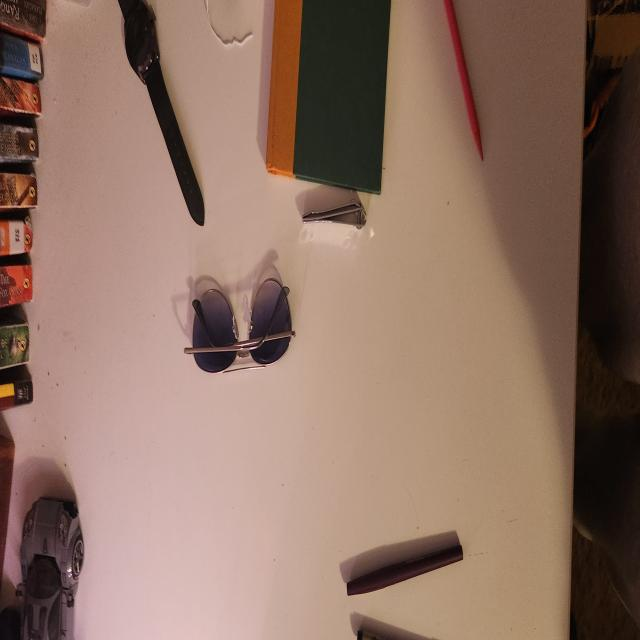Glasses: (186, 253, 295, 376)
Pen: (339, 531, 466, 600)
Watch: (115, 0, 205, 226)
